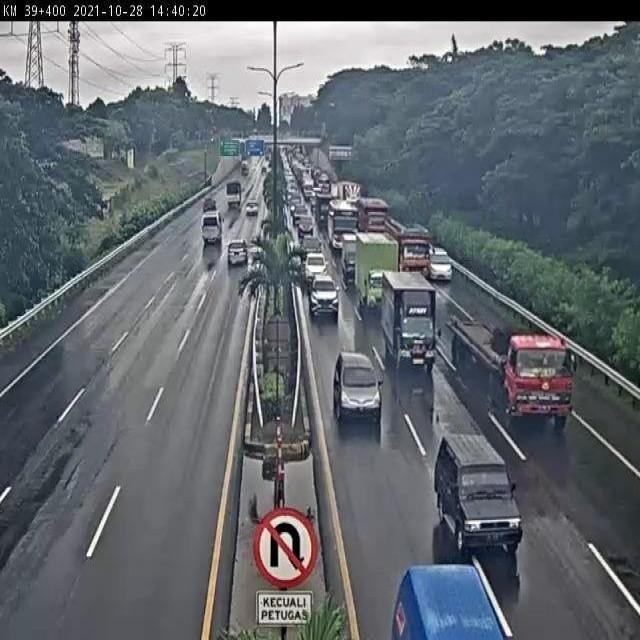car: (435, 433, 522, 552), (335, 347, 382, 415), (310, 275, 341, 317), (305, 252, 329, 284), (429, 244, 450, 280), (228, 241, 249, 267)
truck: (452, 316, 576, 425), (383, 275, 438, 365), (355, 228, 394, 308), (385, 212, 430, 273), (338, 227, 356, 273), (202, 210, 222, 246)
